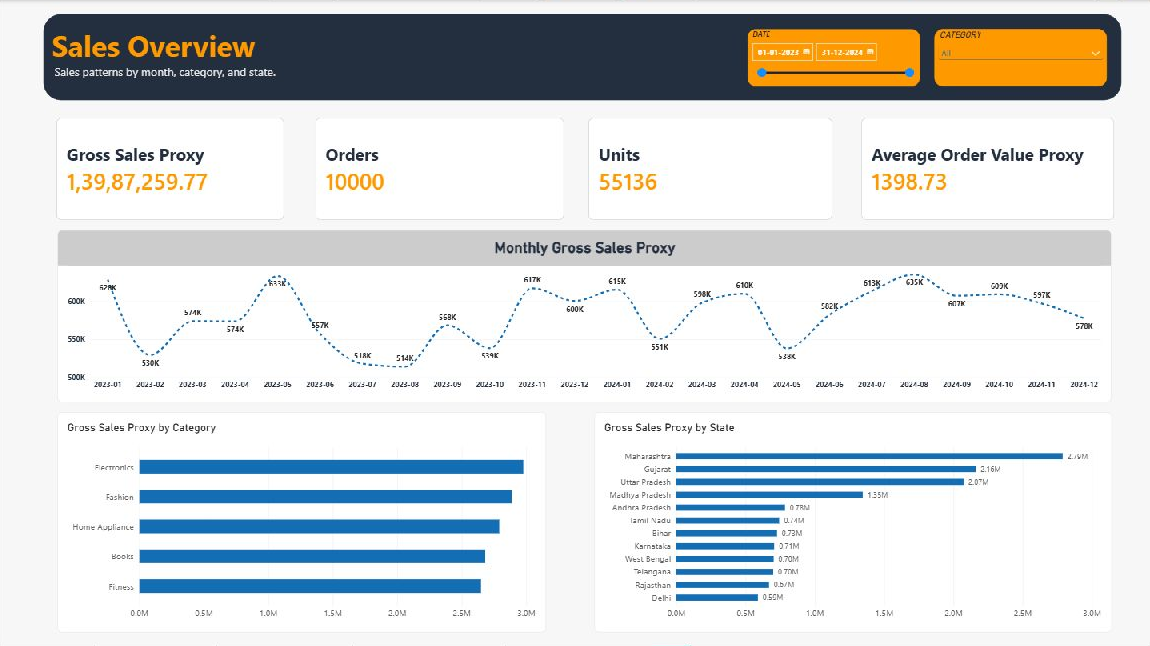

The dashboard page shown, as its layout file describes it:
{"tool":"powerbi","page":{"name":"Sales Overview","canvas":[1920,1080],"ordinal":1},"visuals":[{"type":"textbox","box":[72,24,1800,144],"z":0},{"type":"cardVisual","title":"Gross Sales Proxy","fields":{"Data":["amazon_sales fact_orders.Gross Sales Proxy"]},"box":[93.5,197,380,170],"z":1000},{"type":"cardVisual","fields":{"Data":["amazon_sales fact_orders.Orders"]},"box":[525.5,197,415,170],"z":2000},{"type":"cardVisual","fields":{"Data":["amazon_sales fact_orders.Units"]},"box":[981.5,197,407.5,170],"z":3000},{"type":"cardVisual","fields":{"Data":["amazon_sales fact_orders.Average Order Value Proxy"]},"box":[1437.5,197,422.5,170],"z":4000},{"type":"lineChart","title":"Monthly Gross Sales Proxy","fields":{"Category":["Dim_Date.Year-Month"],"Y":["amazon_sales fact_orders.Gross Sales Proxy"]},"box":[96,384,1760,288],"z":5000},{"type":"clusteredBarChart","title":"Gross Sales Proxy by Category","fields":{"Category":["Dim_Product.Category"],"Y":["Fact_Orders.Gross Sales Proxy"]},"box":[96,688,816,368],"z":6000},{"type":"clusteredBarChart","title":"Gross Sales Proxy by State","fields":{"Category":["Dim_Customer.State"],"Y":["Fact_Orders.Gross Sales Proxy"]},"box":[992,688,864,368],"z":7000},{"type":"slicer","fields":{"Values":["Dim_Product.Category"]},"box":[1560,48,288,96],"z":8000},{"type":"slicer","fields":{"Values":["Dim_Date.Date"]},"box":[1248,48,288,96],"z":9000}]}

Visuals, with their boxes in screenshot pixels (x1, y1, x2, y2), scaled from the page's 1920x1080 canvas onto the 1150x646 screenshot:
textbox: BBox(43, 14, 1121, 100)
"Gross Sales Proxy" cardVisual: BBox(56, 118, 284, 220)
cardVisual - amazon_sales fact_orders.Orders: BBox(315, 118, 563, 220)
cardVisual - amazon_sales fact_orders.Units: BBox(588, 118, 832, 220)
cardVisual - amazon_sales fact_orders.Average Order Value Proxy: BBox(861, 118, 1114, 220)
"Monthly Gross Sales Proxy" lineChart: BBox(58, 230, 1112, 402)
"Gross Sales Proxy by Category" clusteredBarChart: BBox(58, 412, 546, 632)
"Gross Sales Proxy by State" clusteredBarChart: BBox(594, 412, 1112, 632)
slicer - Dim_Product.Category: BBox(934, 29, 1107, 86)
slicer - Dim_Date.Date: BBox(748, 29, 920, 86)
